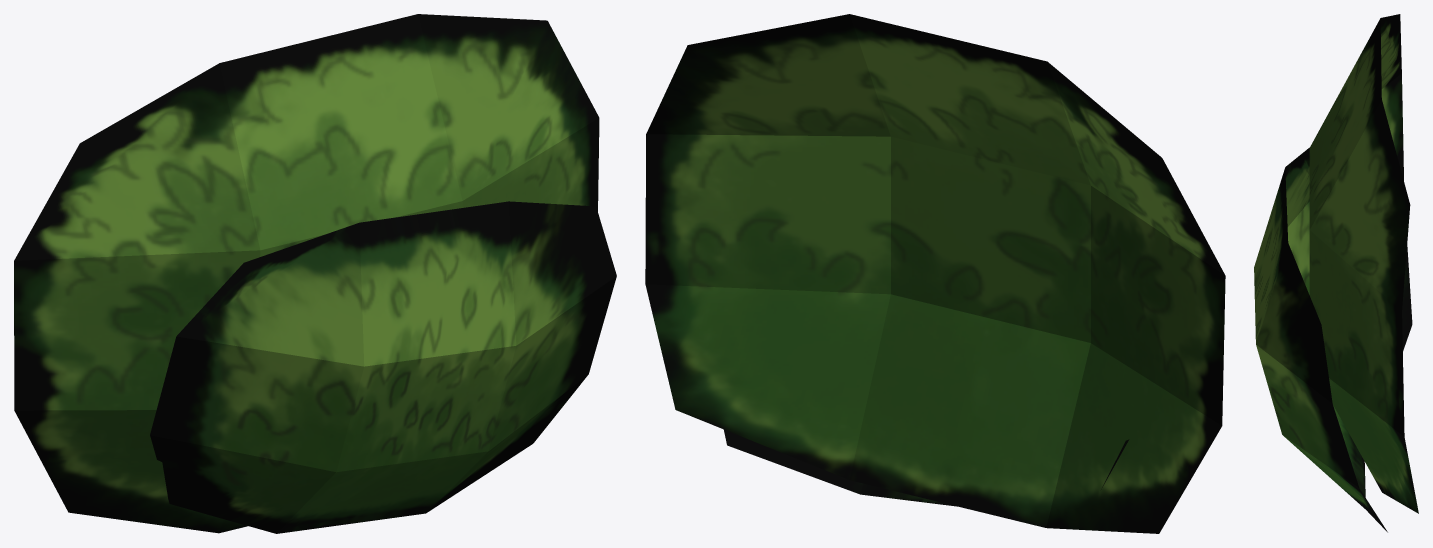
Rendered from bush5.fbx.
3 renders of one model, left to right at view 1: azimuth 30°, elevation 25°; view 2: azimuth 150°, elevation 25°; view 3: azimuth 270°, elevation 25°, orthographic. The views are drawn at different scales.
Visible parts, largest first — view 1: Plane.008, Plane.009; view 2: Plane.008, Plane.009; view 3: Plane.008, Plane.009.
Part boxes in pixels (x1,y1,x2,y2): Plane.008: [14, 14, 599, 533]; Plane.009: [150, 201, 616, 533]; Plane.008: [645, 14, 1225, 533]; Plane.009: [723, 429, 1129, 506]; Plane.008: [1309, 14, 1418, 513]; Plane.009: [1254, 147, 1387, 532].
Bounding box in the file's own units: 138 × 111 × 40.38.
